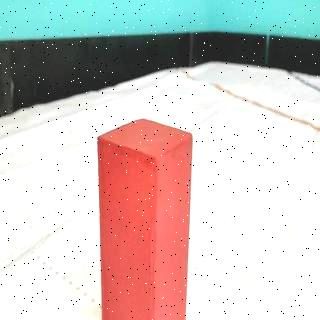redbox: (98, 117, 194, 320)
